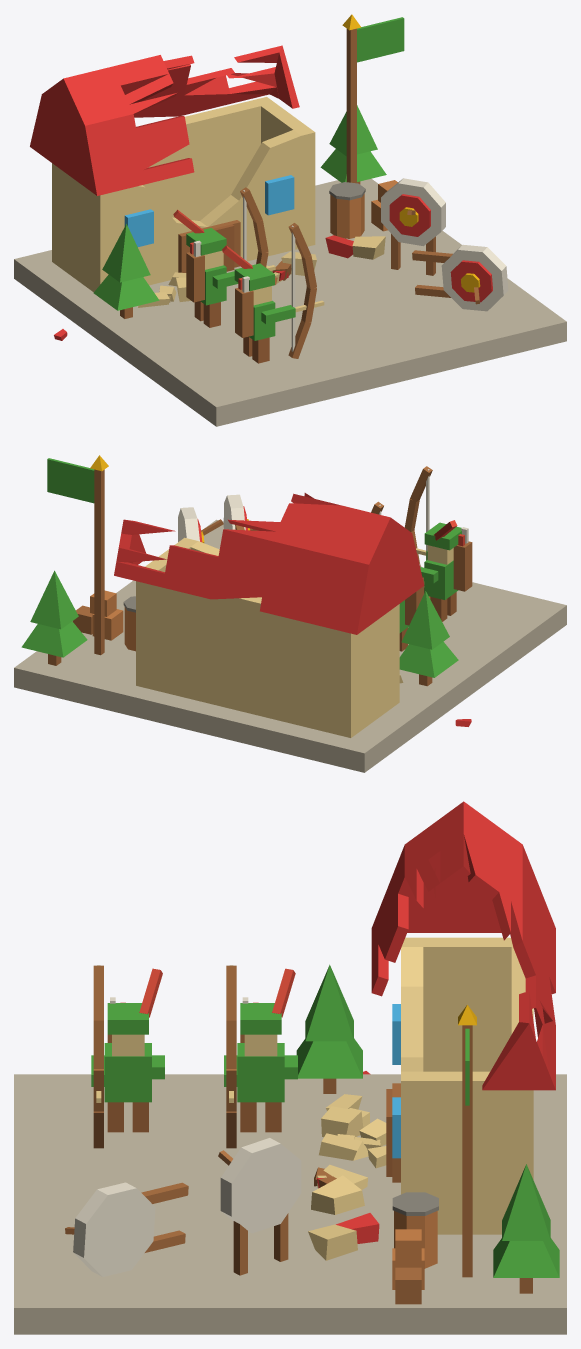
Rendered from archery_range_t2_v3_dmg1.glb.
3 views of the same model, one above another, from view 1: azimuth 30°, elevation 25°; view 2: azimuth 150°, elevation 25°; view 3: azimuth 270°, elevation 25° (orthographic). The views are drawn at different scales.
Parts seen in each view (by area): view 1: archery_range_t2_v3_dmg1; view 2: archery_range_t2_v3_dmg1; view 3: archery_range_t2_v3_dmg1.
Part boxes in pixels (box(x1,y1,x2,y2)): archery_range_t2_v3_dmg1: box(14, 14, 566, 426); archery_range_t2_v3_dmg1: box(14, 455, 566, 772); archery_range_t2_v3_dmg1: box(14, 801, 566, 1334).
Bounding box in the file's own units: 0.8271 × 0.46 × 0.75.
1 material, 1 textured.
